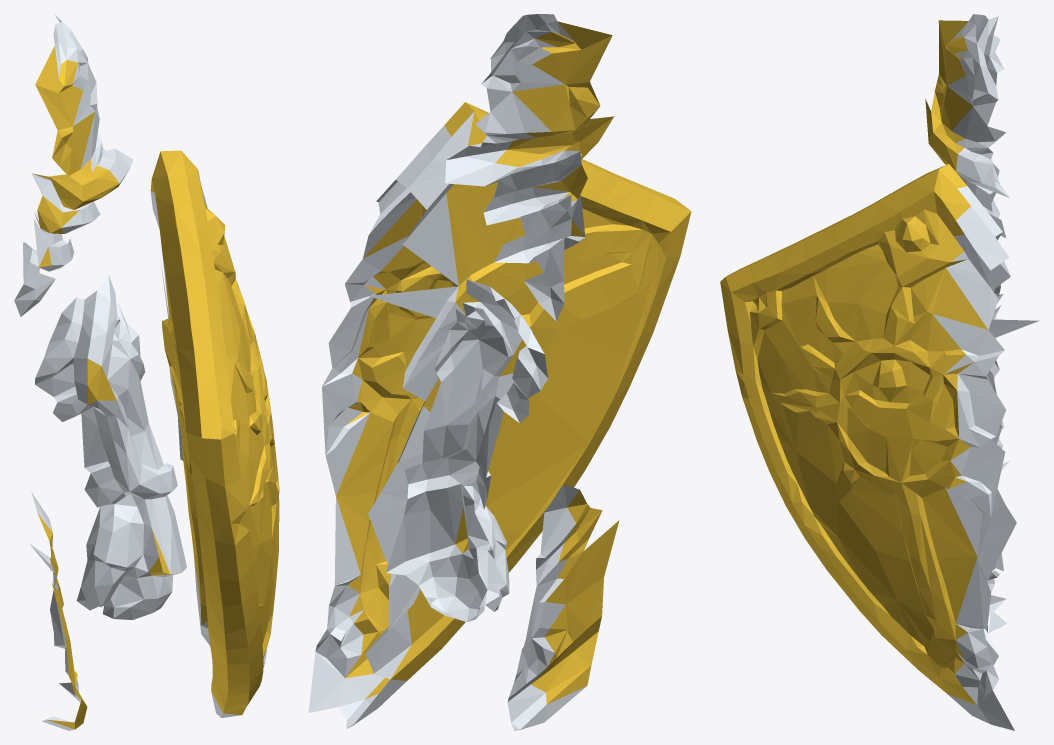
The model's file is angel_arm_l.obj.
The picture shows the model from 3 angles, left to right: view 1: azimuth 30°, elevation 25°; view 2: azimuth 150°, elevation 25°; view 3: azimuth 270°, elevation 25°; orthographic projection. The views are drawn at different scales.
Visible parts, largest first — view 1: Angel_LeftArm; view 2: Angel_LeftArm; view 3: Angel_LeftArm.
Boxes of the visible parts, left/top/right/bottom form: Angel_LeftArm: left=14, top=15, right=279, bottom=730; Angel_LeftArm: left=308, top=14, right=691, bottom=730; Angel_LeftArm: left=720, top=14, right=1039, bottom=730.
Bounding box in the file's own units: 0.2854 × 0.7727 × 0.3497.
